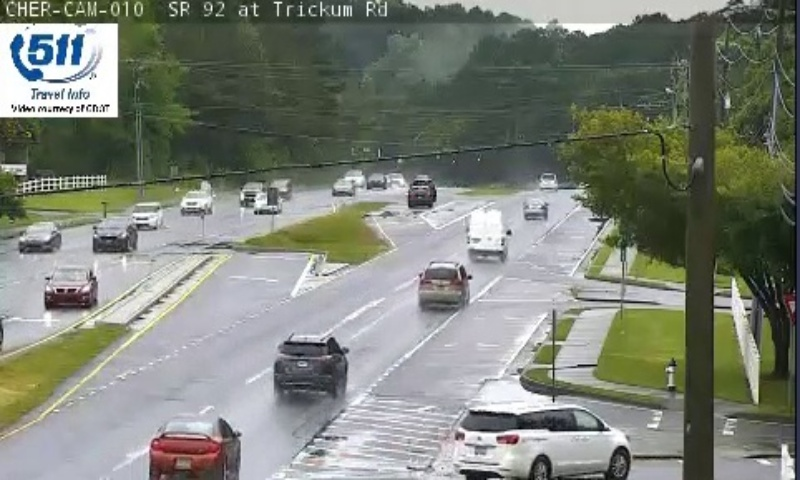car: (151, 418, 239, 480), (273, 335, 346, 389), (417, 263, 469, 304), (524, 198, 549, 220)
van: (468, 209, 506, 258)
